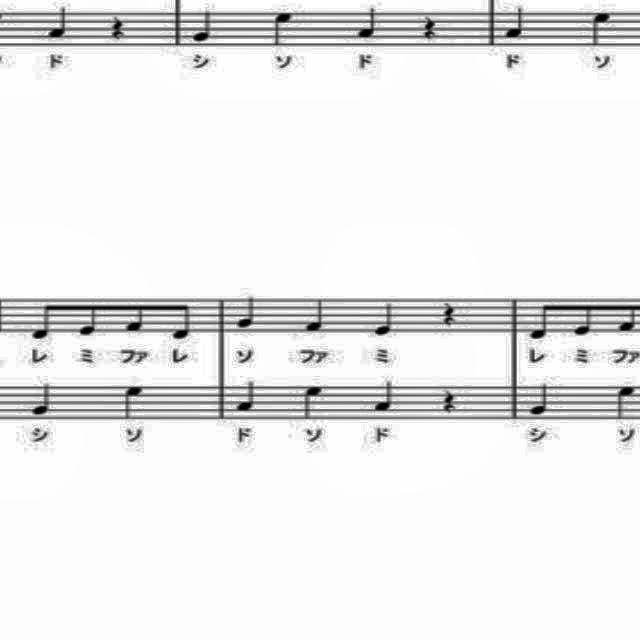Eighth-note: (27, 291, 58, 347), (526, 289, 558, 343), (72, 294, 104, 340), (123, 294, 151, 342), (168, 293, 192, 347), (570, 299, 598, 339), (616, 294, 638, 338)
Quarter-note: (183, 6, 217, 44), (372, 297, 401, 339), (369, 378, 399, 418), (272, 5, 298, 50), (44, 4, 76, 40), (232, 291, 258, 335), (499, 5, 529, 43), (526, 382, 556, 420), (232, 379, 260, 419), (298, 384, 326, 424), (303, 294, 329, 336), (354, 6, 384, 42), (588, 12, 616, 50), (28, 380, 52, 422), (614, 382, 638, 423), (123, 382, 145, 426)
Quarter-rest: (435, 296, 461, 336), (438, 379, 462, 419), (103, 10, 129, 44), (420, 11, 442, 45)
